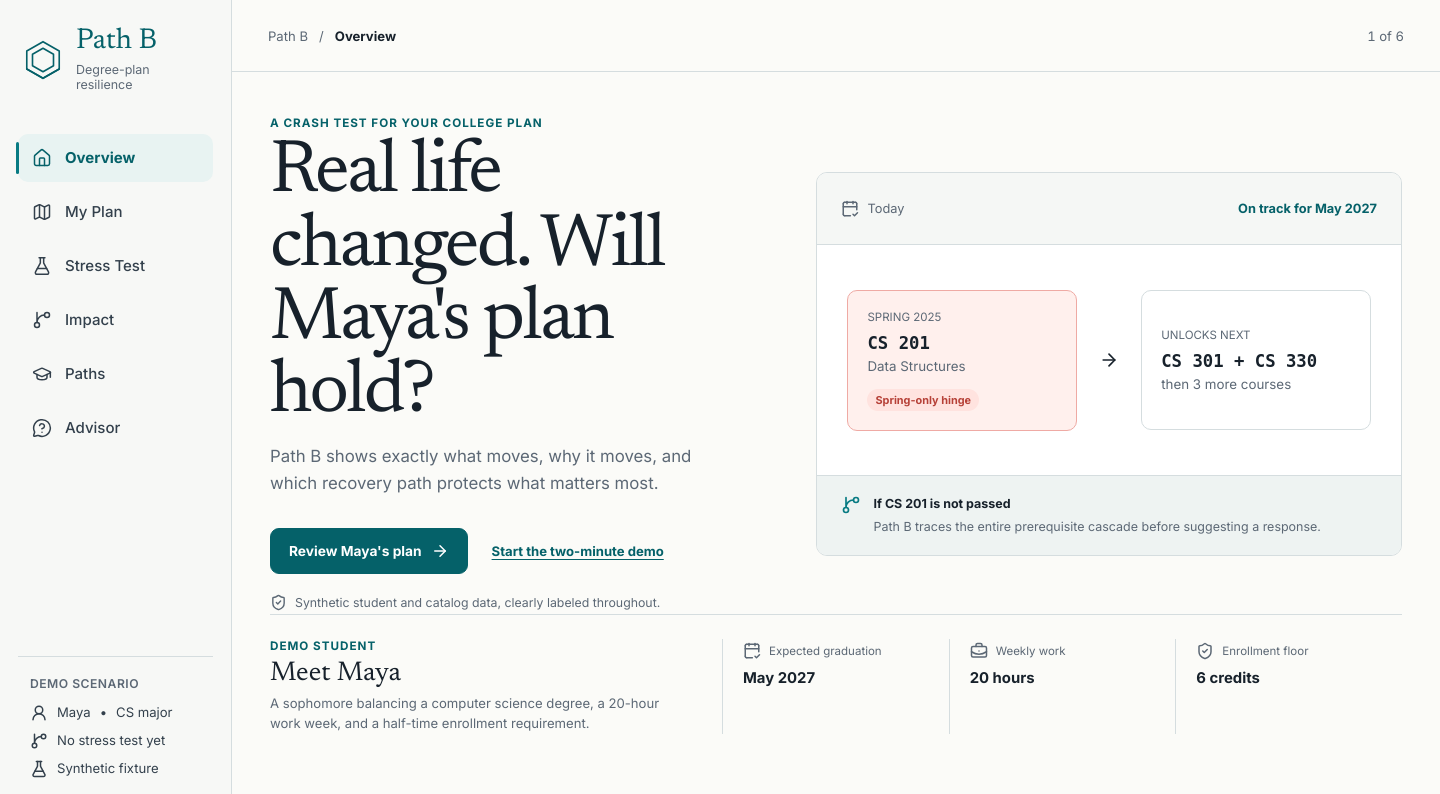
Test: App › lets Maya inspect a course and its direct dependencies
Click the link "Review Maya's plan" at (369, 551), box [270, 528, 468, 574]
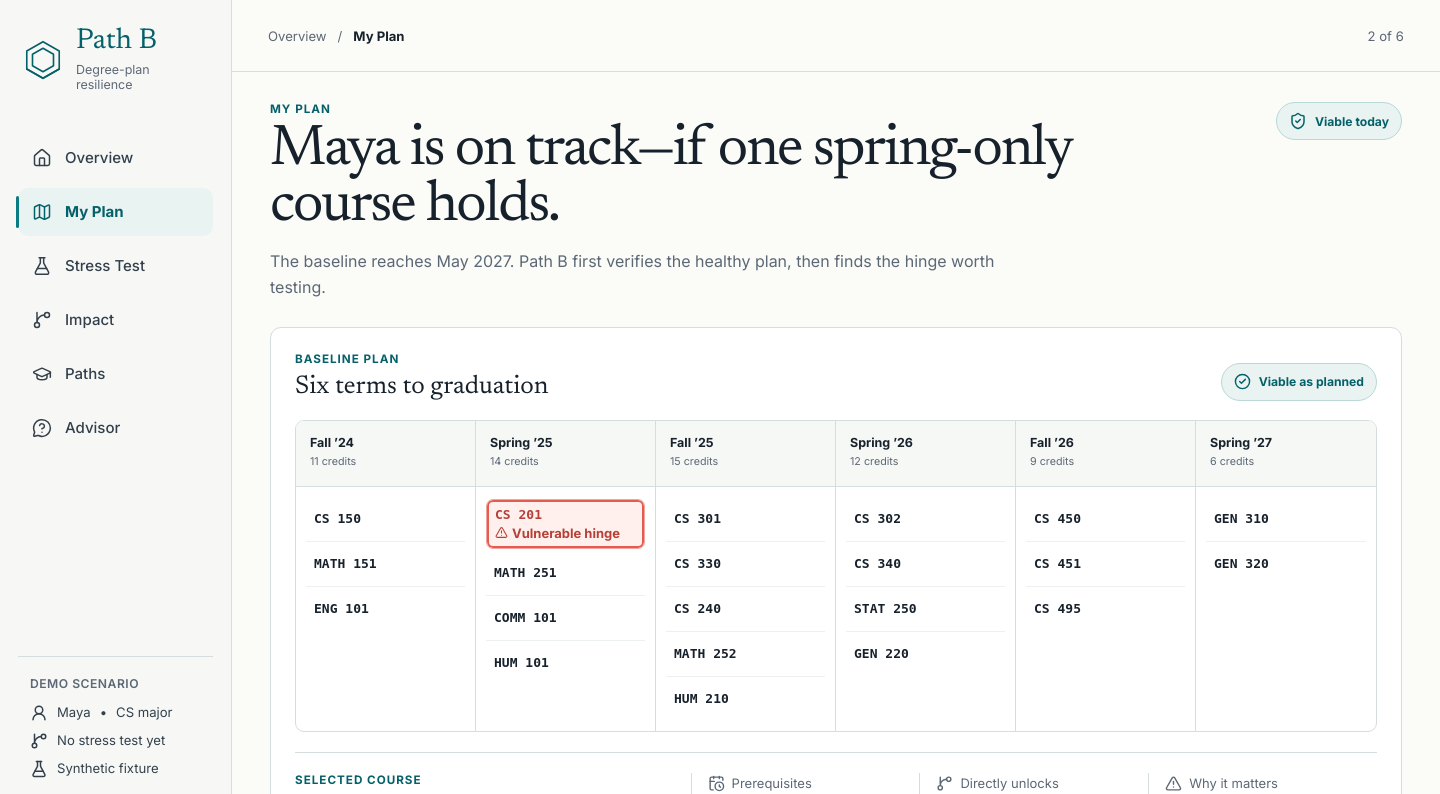
Click the button "CS 301" at (746, 519), box [666, 497, 825, 541]
(page scrolled)
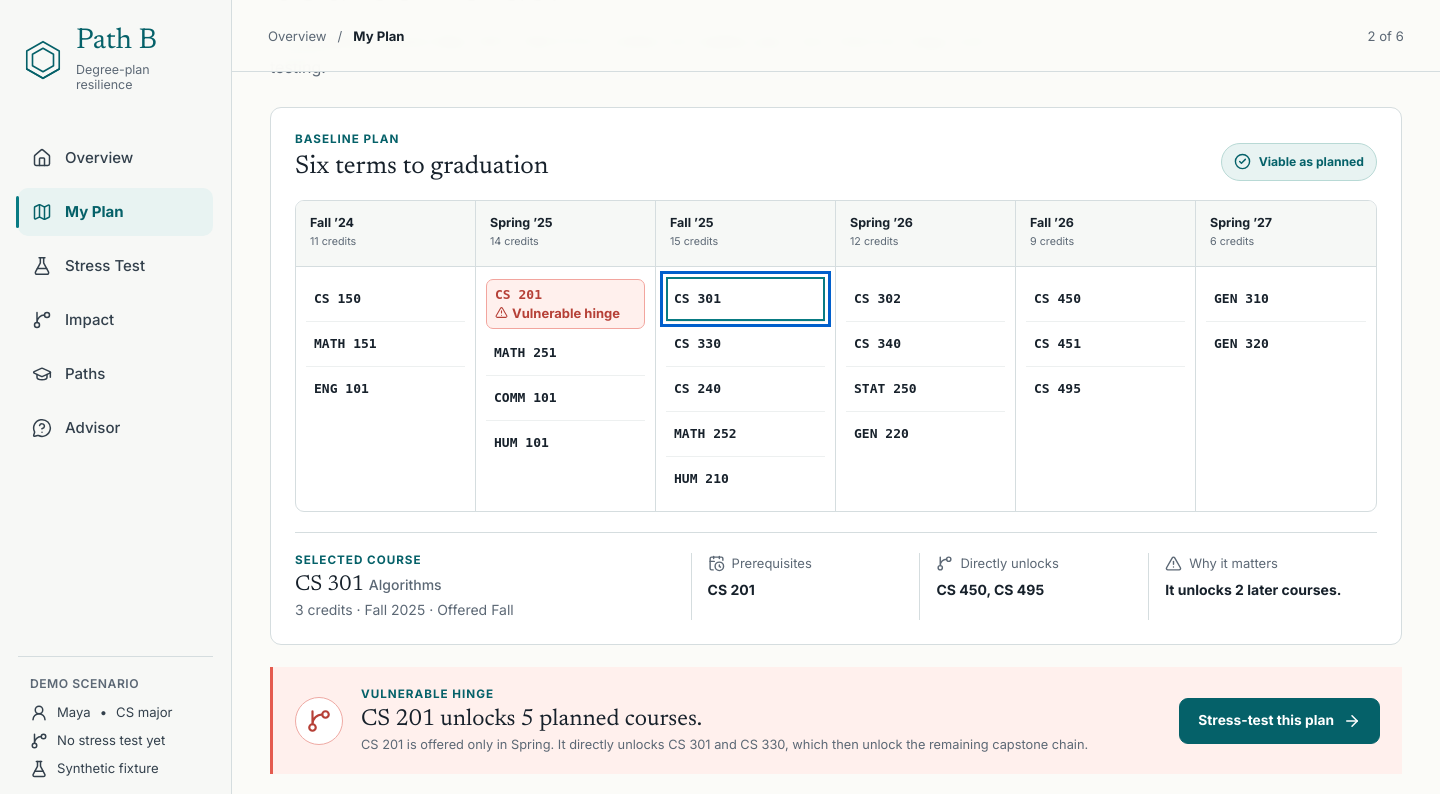
expect the heading "CS 301 Algorithms" is shown: met, box [295, 574, 442, 596]
expect the text "CS 201" below "Prerequisites" is shown: met, box [708, 581, 755, 598]
expect the text "CS 450, CS 495" is shown: met, box [936, 581, 1044, 598]
